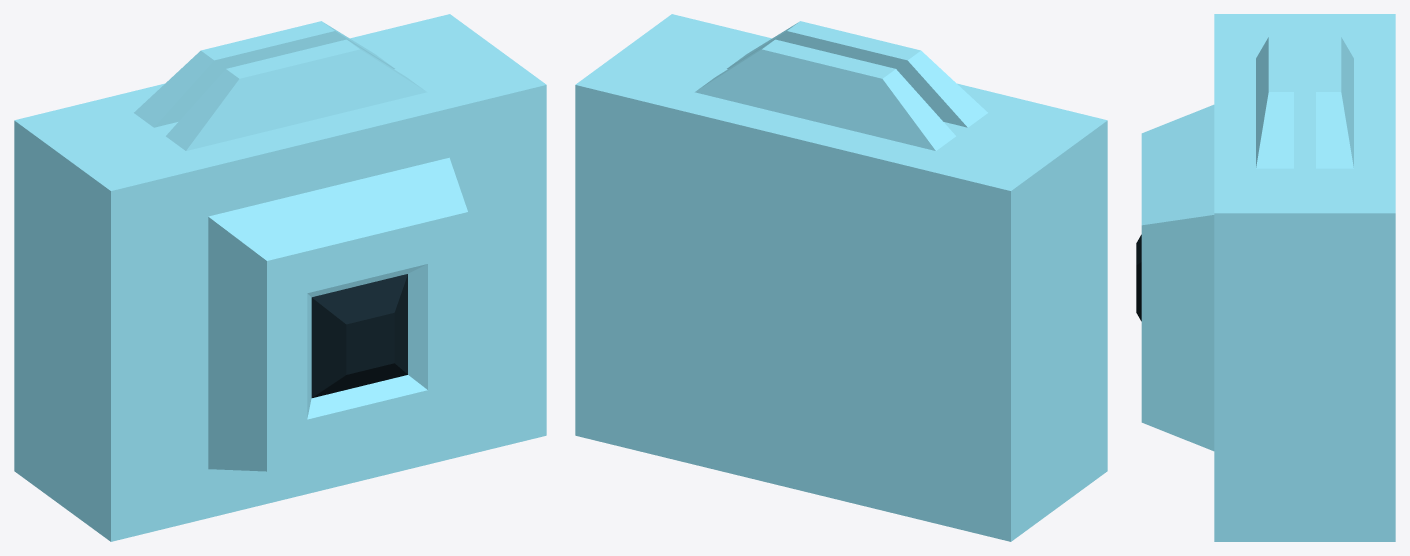
Rendered from Camera.fbx.
3 views of the same model, side by side, from view 1: azimuth 30°, elevation 25°; view 2: azimuth 150°, elevation 25°; view 3: azimuth 270°, elevation 25° (orthographic). The views are drawn at different scales.
Parts seen in each view (by area): view 1: Camera; view 2: Camera; view 3: Camera.
Part boxes in pixels (x1,y1,x2,y2): Camera: (14,14,546,541); Camera: (575,14,1107,541); Camera: (1136,14,1395,541).
Size of the model in its own units: 260 by 230 by 143.
